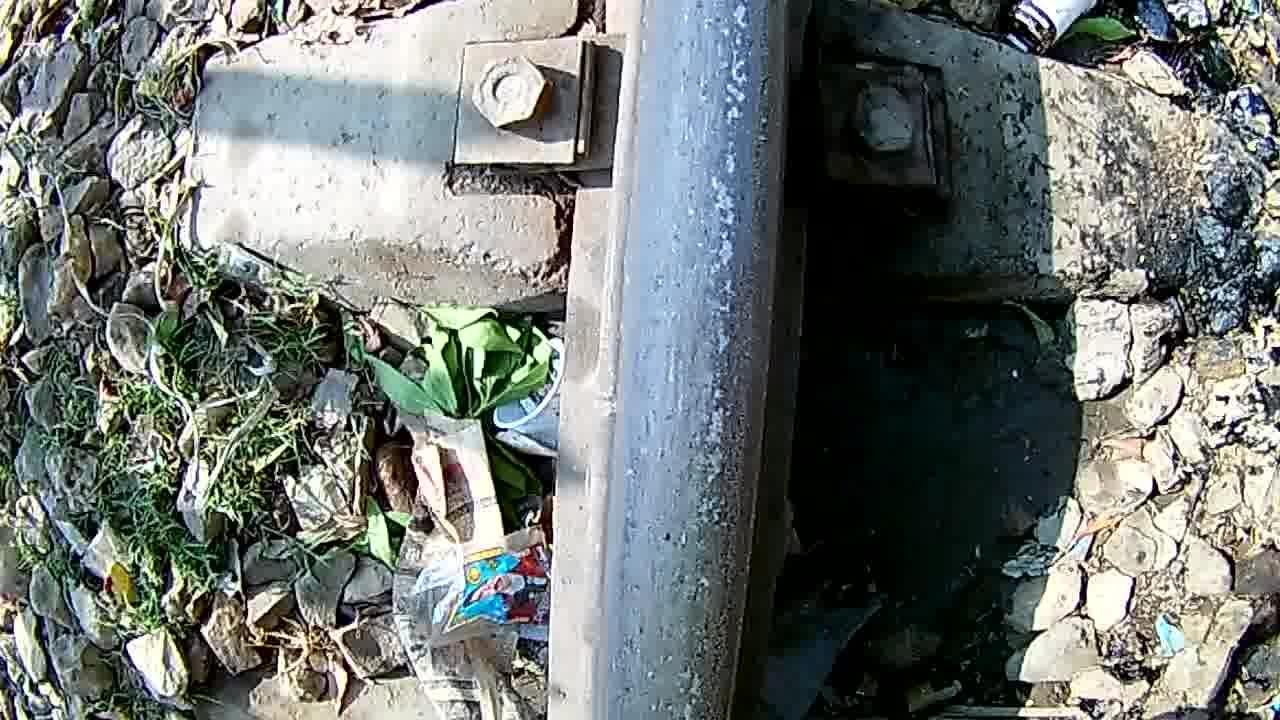clip_missing: (595, 0, 797, 720)
